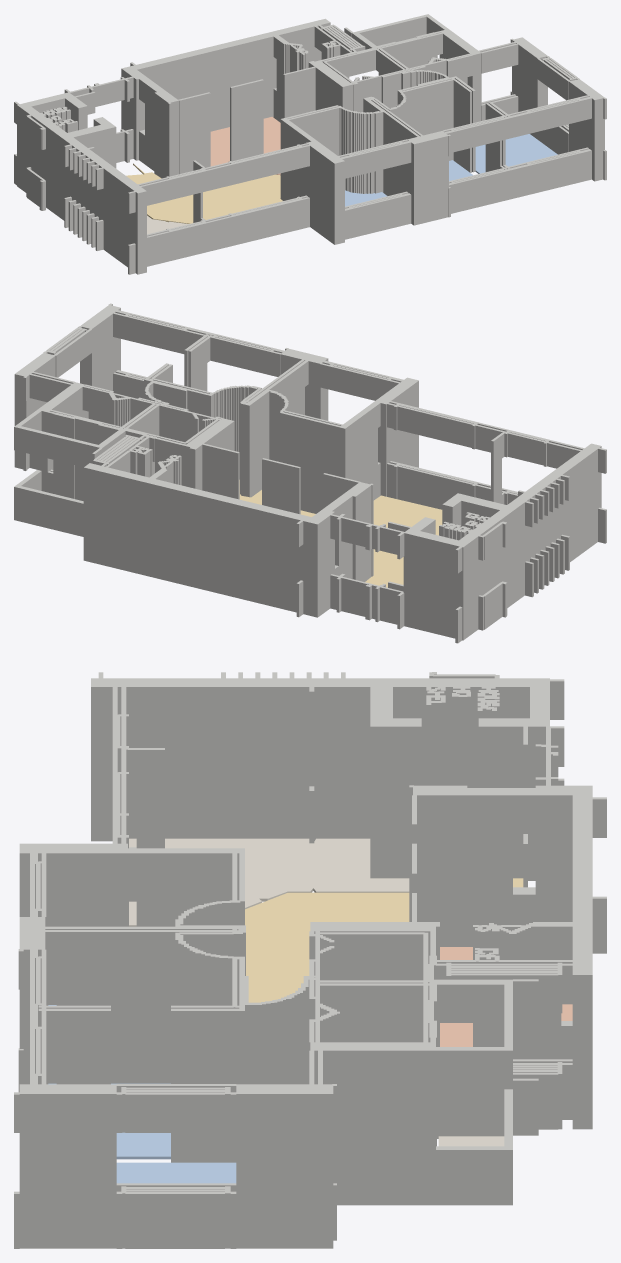
3 views of the same model, one above another, from view 1: azimuth 30°, elevation 25°; view 2: azimuth 150°, elevation 25°; view 3: azimuth 270°, elevation 25° (orthographic). The views are drawn at different scales.
Visible parts, largest first — view 1: walls, room:living:2, room:bedroom:4, room:kitchen:0, room:bedroom:5, room:other:3; view 2: walls, room:living:2; view 3: walls, room:living:2, room:other:3, room:bedroom:4, room:bedroom:6, room:kitchen:0.
Boxes of the visible parts, box(x1,y1,x2,y2) form: walls: box(14, 14, 606, 274); room:living:2: box(126, 163, 282, 223); room:bedroom:4: box(475, 134, 557, 173); room:kitchen:0: box(210, 117, 280, 175); room:bedroom:5: box(345, 190, 387, 206); room:other:3: box(147, 215, 188, 234); walls: box(14, 303, 606, 643); room:living:2: box(239, 480, 442, 587); walls: box(14, 672, 606, 1248); room:living:2: box(245, 878, 523, 1002); room:other:3: box(129, 838, 409, 926); room:bedroom:4: box(116, 1162, 236, 1183); room:bedroom:6: box(48, 1083, 170, 1159); room:kitchen:0: box(440, 947, 572, 1046).
Bounding box in the file's own units: 16.43 × 2.8 × 9.75.
